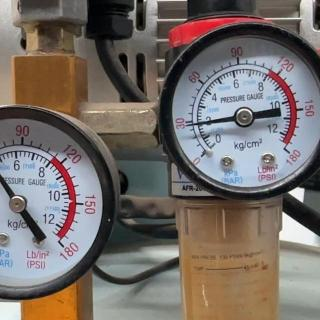gauge: (161, 14, 319, 202), (0, 100, 120, 308), (233, 106, 255, 128), (191, 145, 213, 166), (8, 194, 28, 214), (52, 234, 70, 256), (279, 142, 297, 162), (181, 121, 191, 129)
